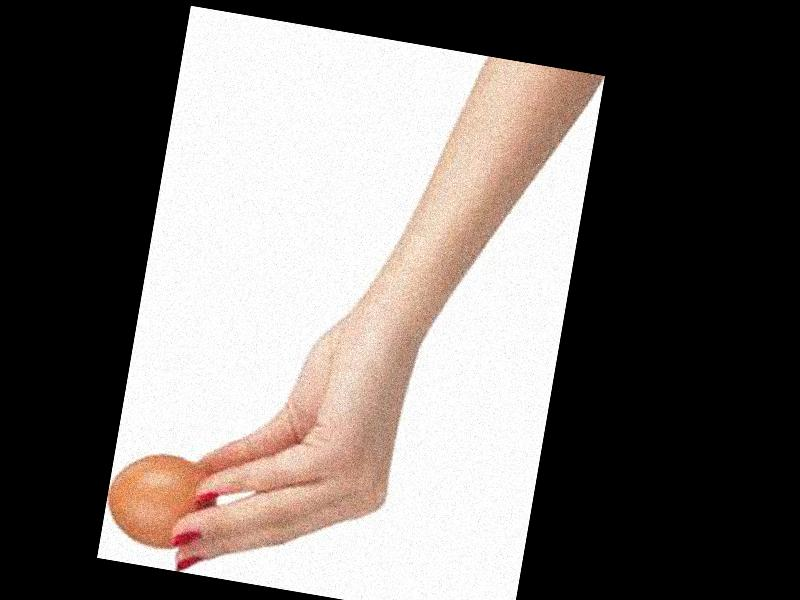Eggs: (102, 446, 219, 556)
